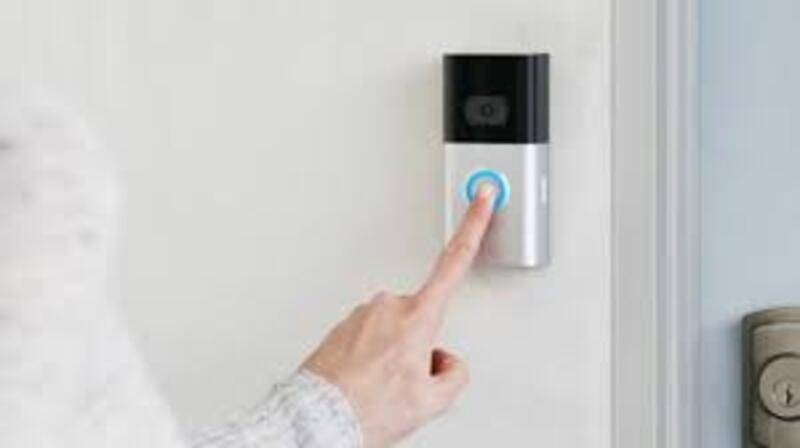doorbell: (432, 43, 559, 271)
